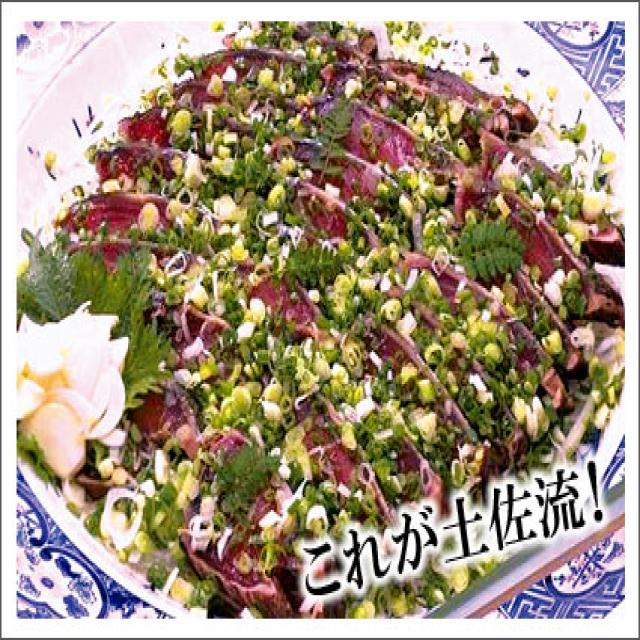熟制海鲜: (28, 13, 610, 582)
